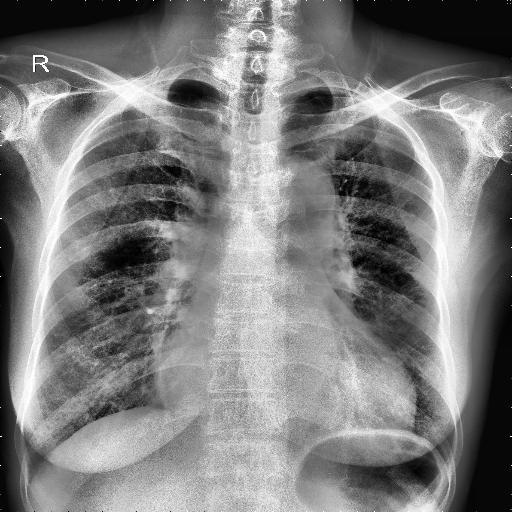0- Aortic enlargement: (255, 155, 335, 243), (258, 155, 334, 235), (278, 150, 338, 224)
3- Cardiomegaly: (156, 340, 418, 436), (159, 342, 414, 432), (157, 362, 420, 435)
